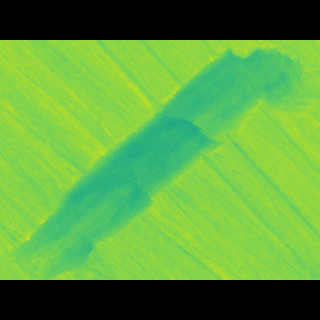Loch: (5, 73, 308, 250)
